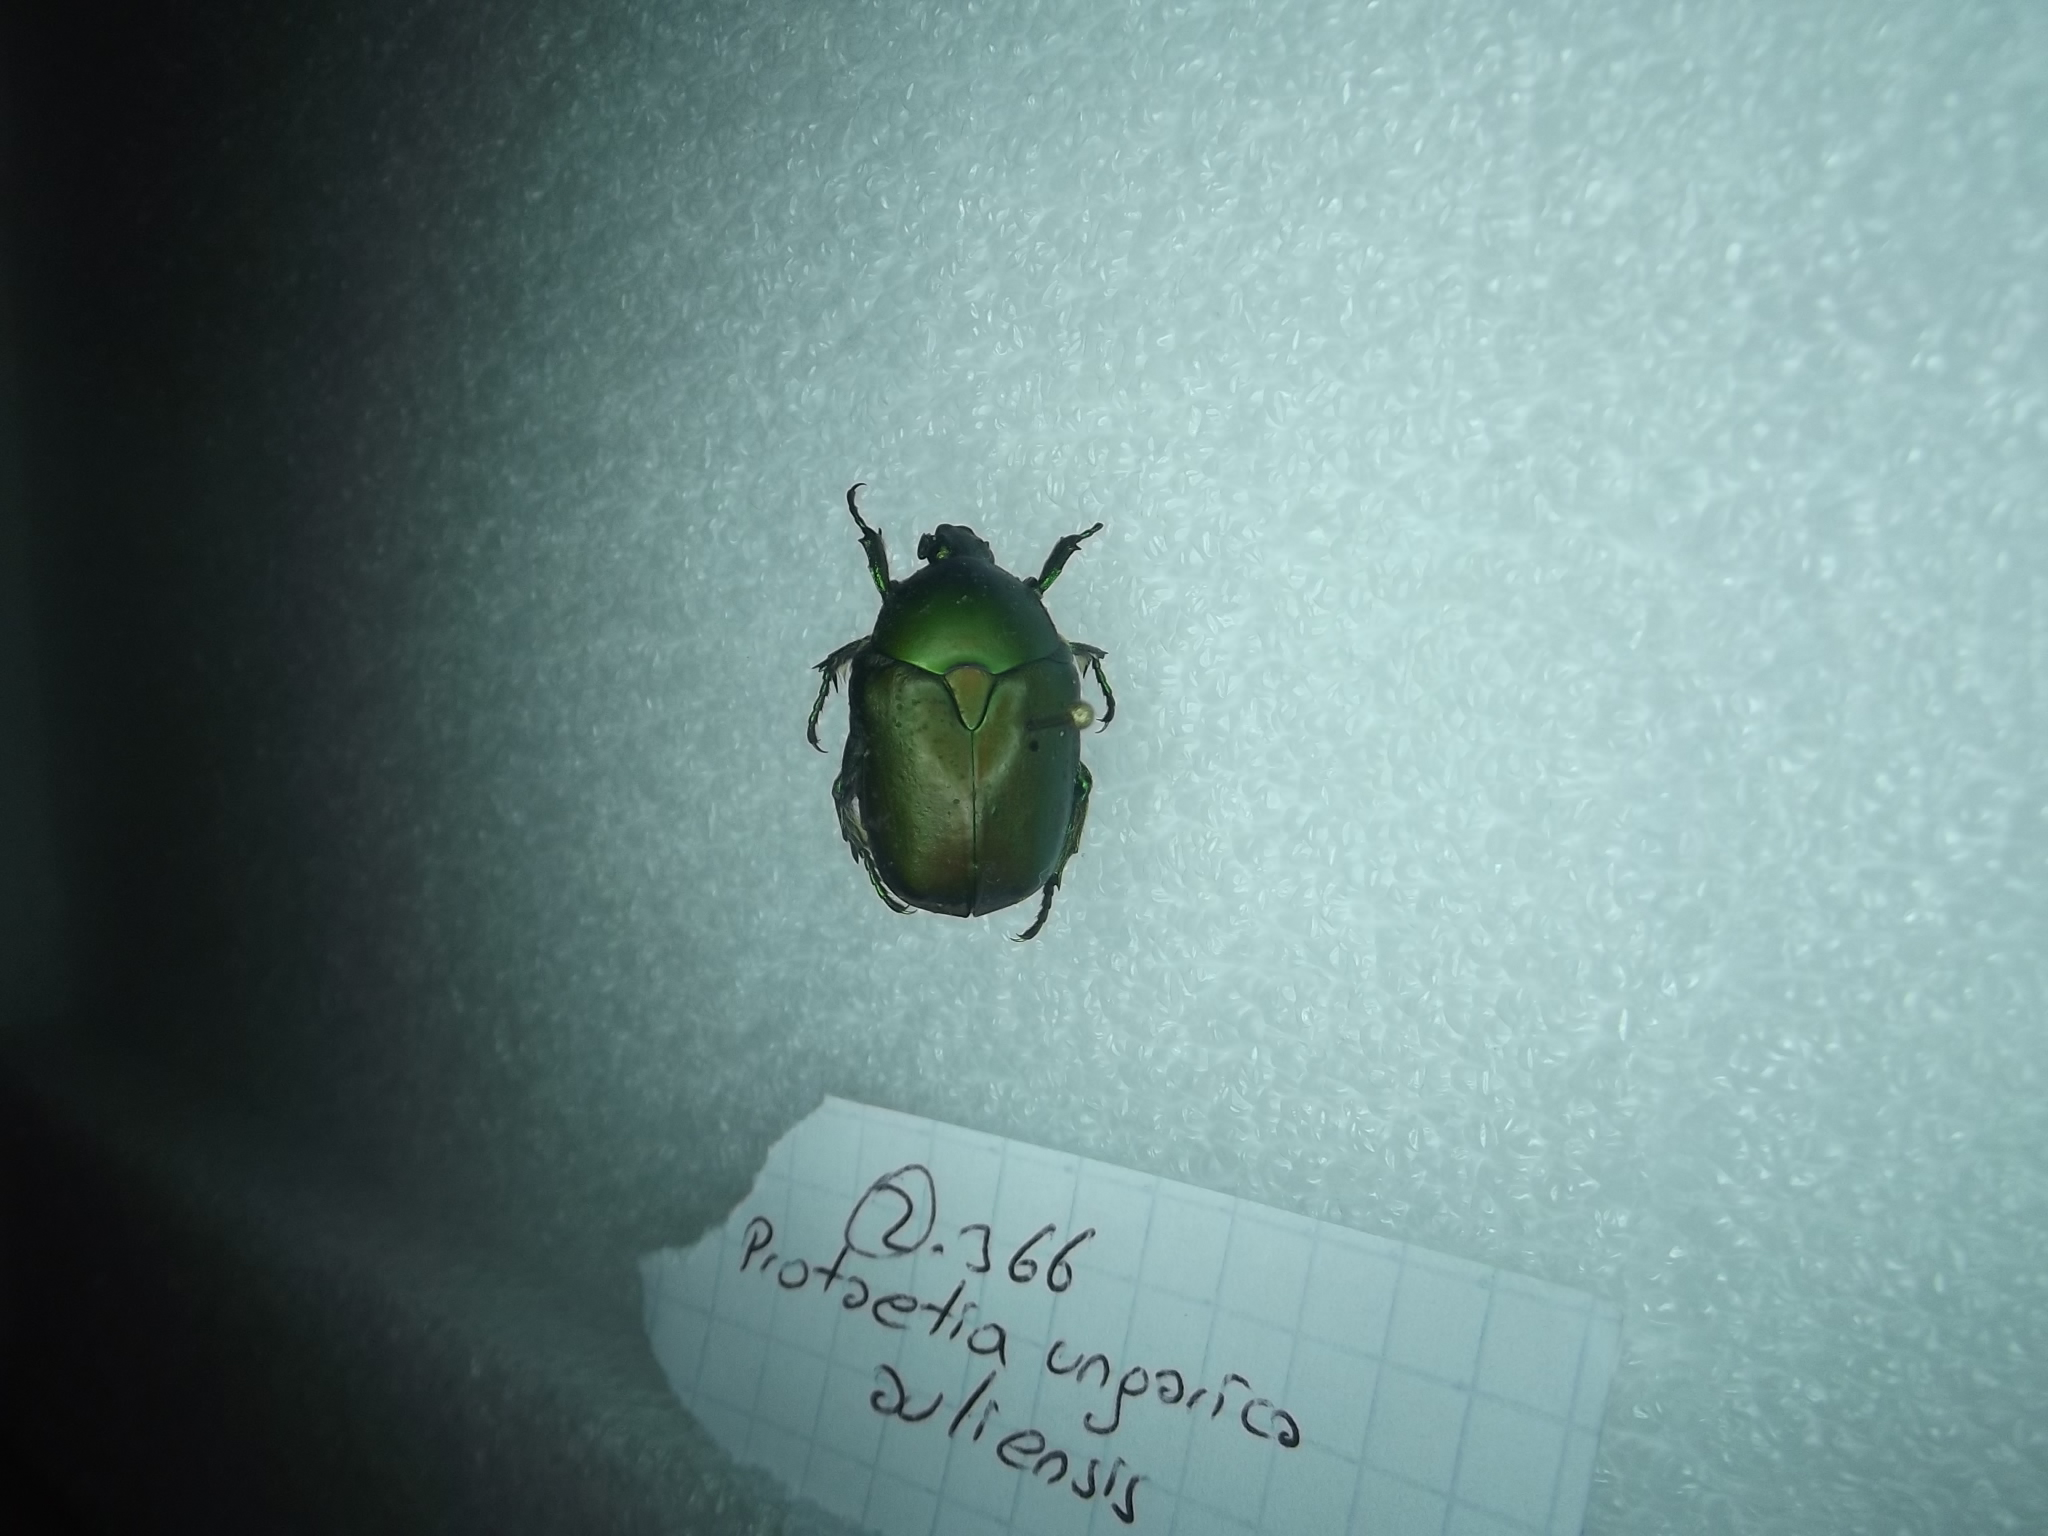Protaetia_ungarica_auliensis: (798, 466, 1132, 944)
